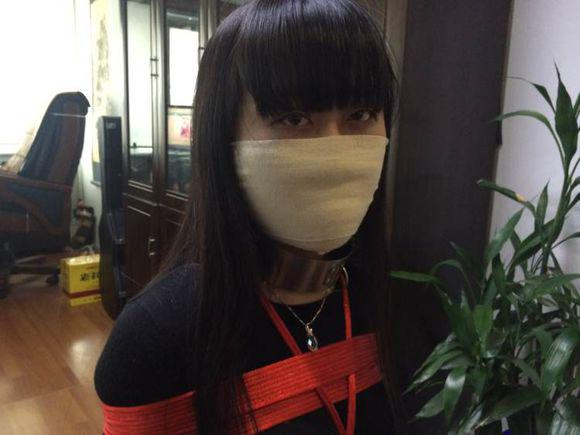OK: (241, 94, 385, 238)
